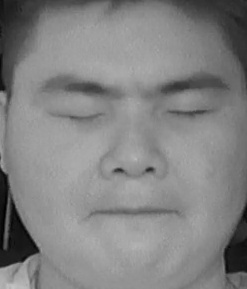blink: (44, 98, 105, 132), (162, 95, 217, 129)
mouth: (90, 189, 179, 239)
